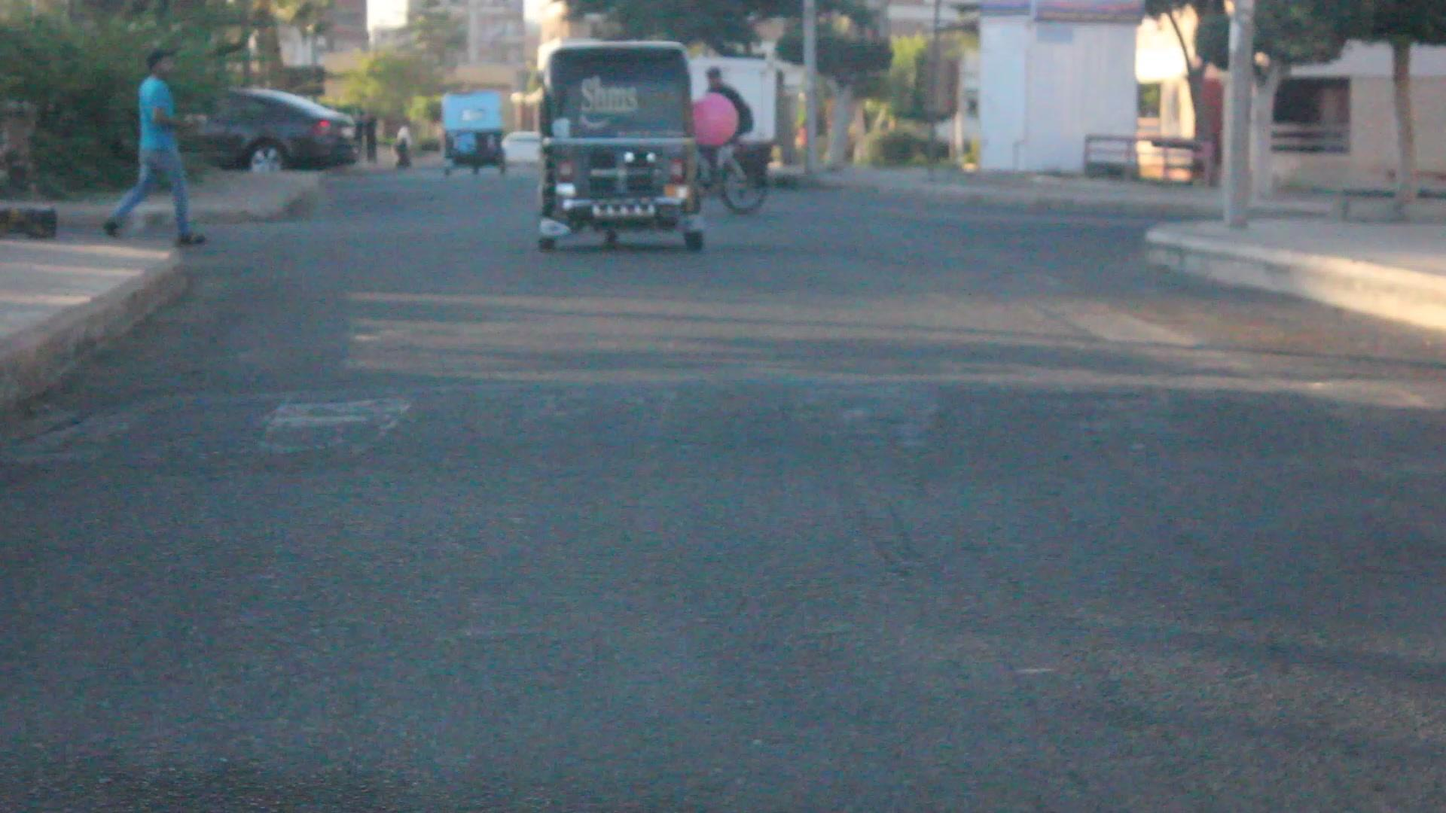Bump: (0, 340, 1445, 489)
